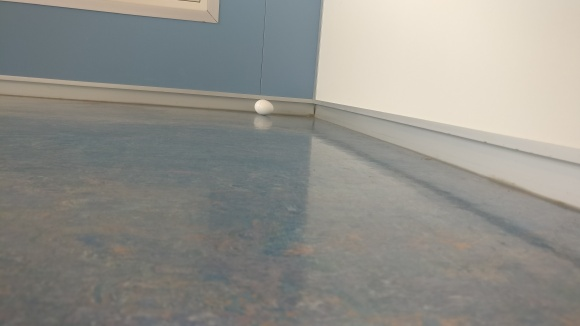egg: (254, 98, 274, 116)
